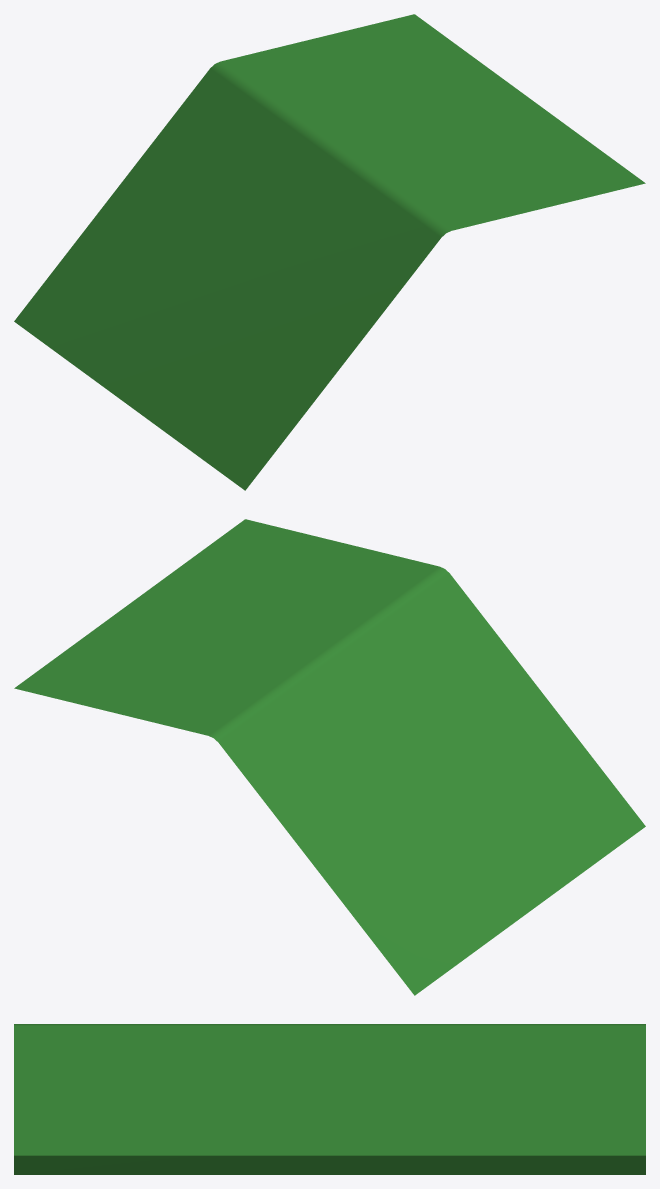
Rendered from cliff_ramp_full.fbx.
The picture shows the model from 3 angles, top to bottom: view 1: azimuth 30°, elevation 25°; view 2: azimuth 150°, elevation 25°; view 3: azimuth 270°, elevation 25°; orthographic projection. The views are drawn at different scales.
Parts seen in each view (by area): view 1: ramp_full; view 2: ramp_full; view 3: ramp_full.
Part boxes in pixels (bbox=[...]): ramp_full: bbox=[14, 14, 645, 490]; ramp_full: bbox=[14, 519, 645, 995]; ramp_full: bbox=[14, 1024, 645, 1174].
Size of the model in its own units: 200 by 100 by 200.
